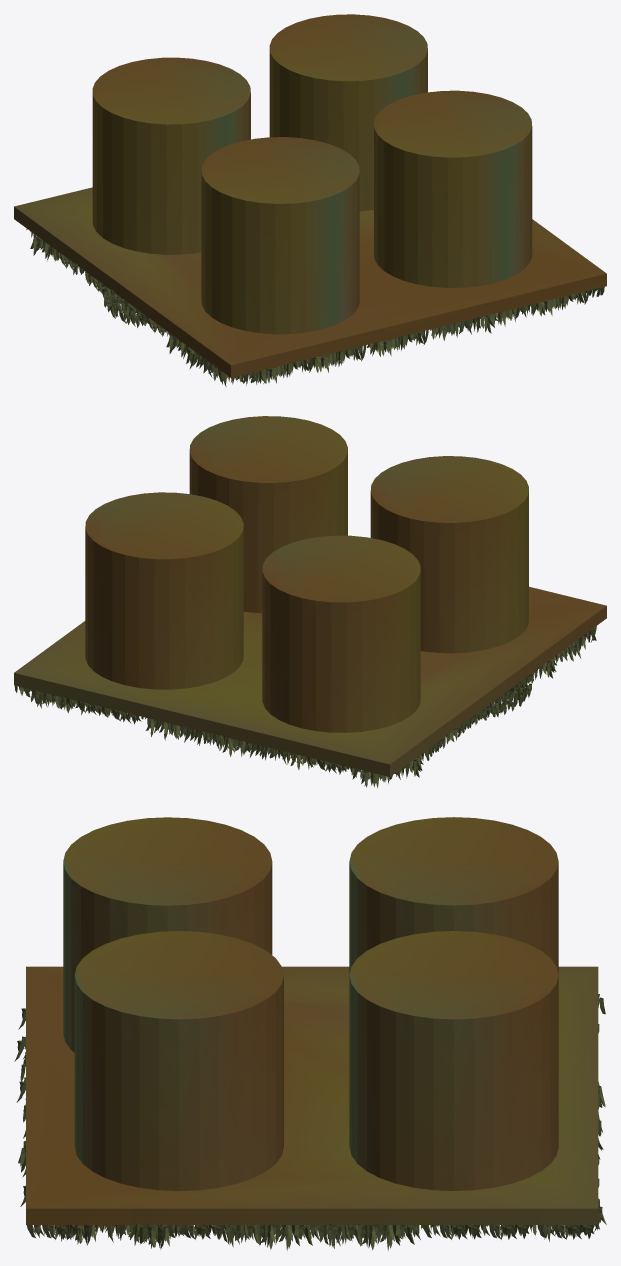
Rendered from FourHoles.obj.
3 views of the same model, one above another, from view 1: azimuth 30°, elevation 25°; view 2: azimuth 150°, elevation 25°; view 3: azimuth 270°, elevation 25° (orthographic). The views are drawn at different scales.
Parts seen in each view (by area): view 1: Cube; view 2: Cube; view 3: Cube.
Boxes of the visible parts, left/top/right/bottom form: Cube: left=14, top=14, right=606, bottom=386; Cube: left=14, top=416, right=606, bottom=788; Cube: left=14, top=817, right=606, bottom=1250.
Bounding box in the file's own units: 21.42 × 8.37 × 20.73.
